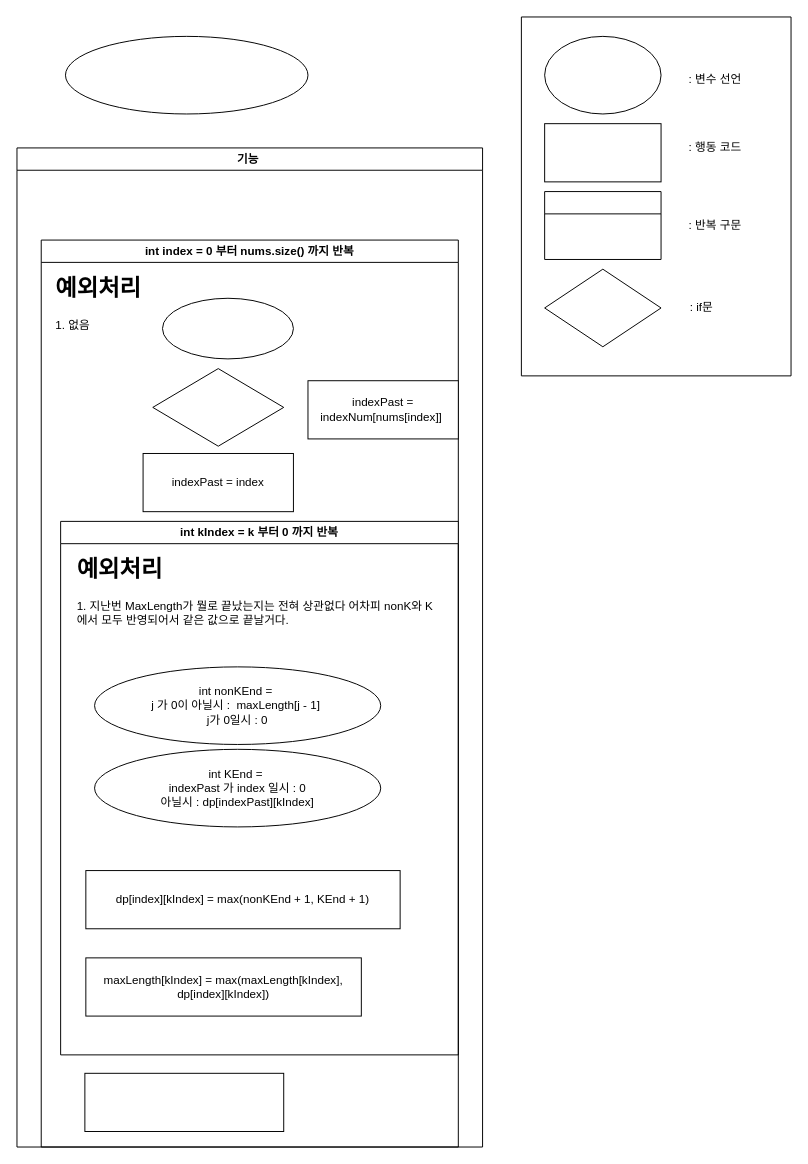
This 808x1164 diagram has some shape labels left out. The centre of each missing label's shape, as x and y in pixels:
indexNum[nums[index]] = index: the point at 184,1102
int indexPast: the point at 227,328
unordered_map<int, int> indexNum int dp[5001][51] int maxLength[51]: the point at 186,74
~ 동안: the point at 602,225
내 값에 대한 이전 인덱스가 있는가?: the point at 218,407
